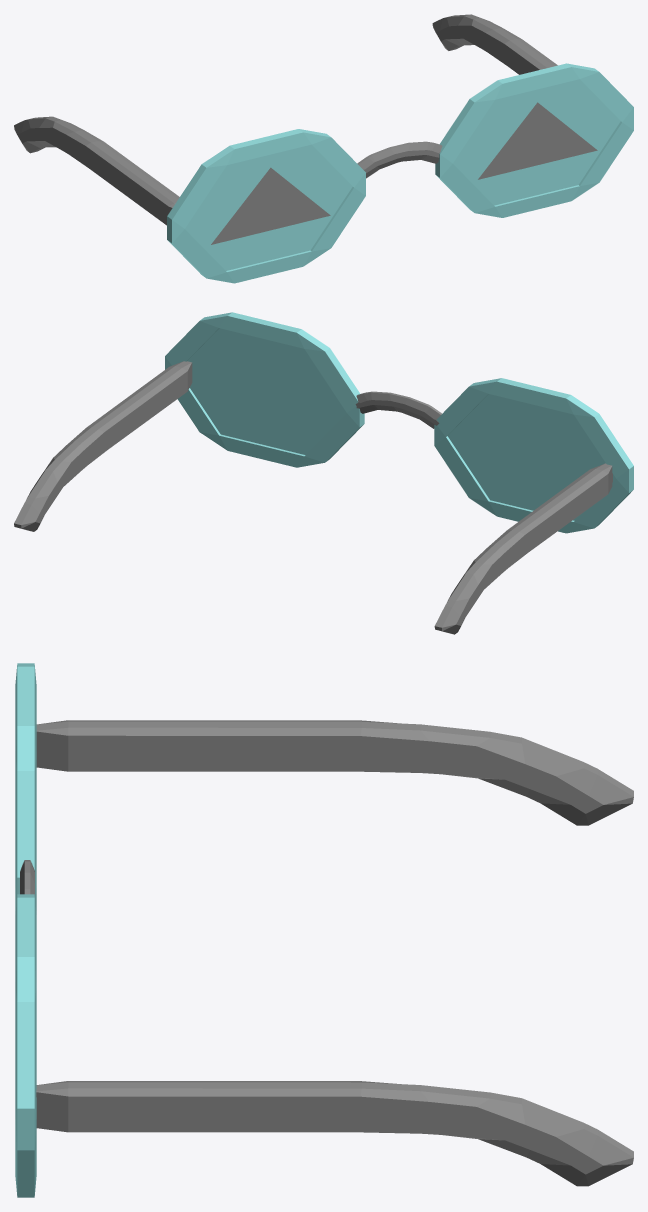
Rendered from brille.fbx.
3 views of the same model, one above another, from view 1: azimuth 30°, elevation 25°; view 2: azimuth 150°, elevation 25°; view 3: azimuth 270°, elevation 25° (orthographic). The views are drawn at different scales.
Parts seen in each view (by area): view 1: Plane.001; view 2: Plane.001; view 3: Plane.001.
Part boxes in pixels (x1,y1,x2,y2): Plane.001: [14, 14, 633, 283]; Plane.001: [14, 312, 633, 634]; Plane.001: [15, 663, 633, 1197].
Size of the model in its own units: 25.9 by 7.2 by 17.05.
